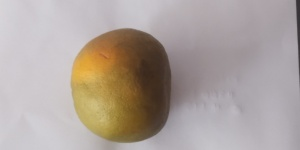BAD: (69, 25, 172, 145)
